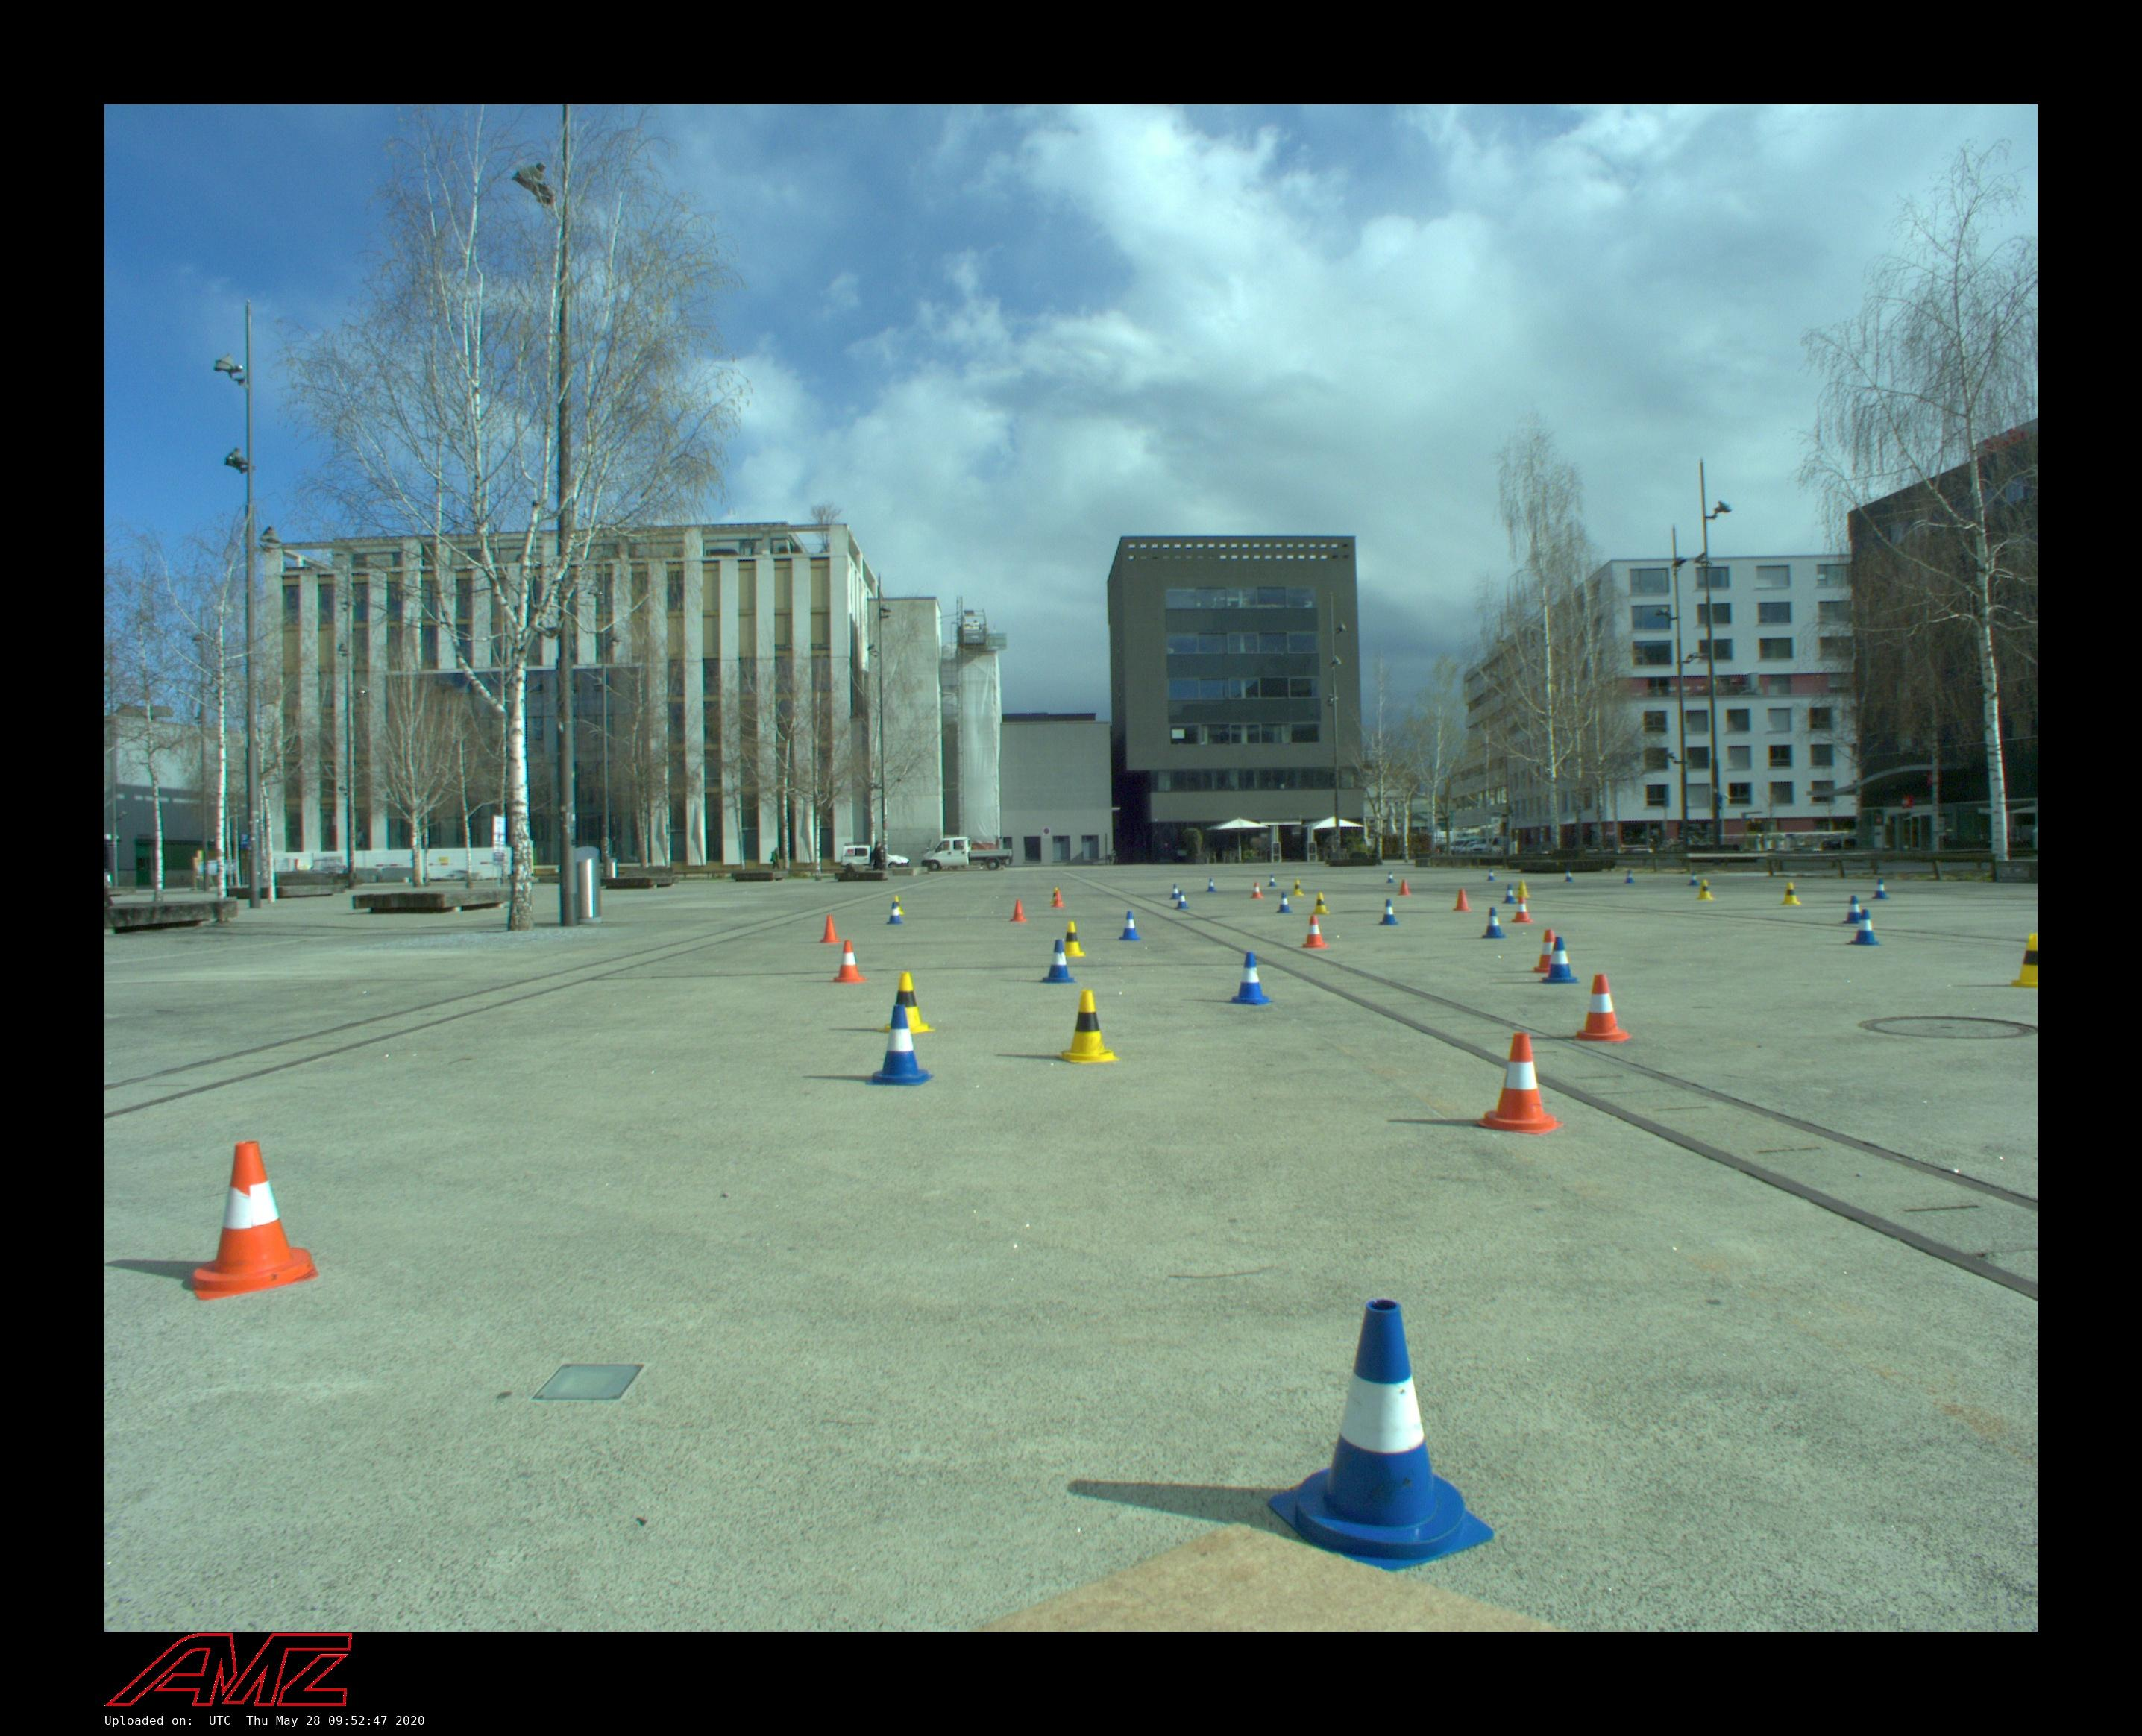blue_cone: (1265, 1298, 1494, 1573), (866, 1004, 934, 1086), (1228, 951, 1274, 1004), (1538, 935, 1579, 985), (1040, 939, 1075, 983), (1846, 909, 1882, 944), (1481, 907, 1506, 939), (1843, 896, 1867, 925), (1118, 911, 1141, 941), (1378, 898, 1398, 925), (886, 902, 904, 925), (1276, 891, 1293, 914), (1873, 879, 1889, 900), (1502, 884, 1517, 903), (1175, 891, 1189, 909), (1169, 884, 1182, 900), (1207, 877, 1217, 891), (1688, 872, 1699, 886), (1269, 873, 1277, 887), (1625, 870, 1634, 884), (1486, 870, 1495, 882), (1564, 870, 1573, 882), (1387, 872, 1394, 882)
orange_cone: (190, 1141, 319, 1302), (1478, 1033, 1564, 1135), (1575, 974, 1632, 1042), (831, 941, 866, 983), (1533, 930, 1564, 974), (1302, 916, 1327, 948), (819, 916, 840, 944), (1511, 896, 1533, 923), (1453, 889, 1472, 912), (1010, 900, 1028, 923), (1398, 879, 1410, 896), (1052, 891, 1065, 907), (1251, 882, 1263, 898)
yellow_cone: (1058, 990, 1121, 1066), (879, 973, 934, 1036), (2007, 934, 2037, 988), (1058, 921, 1086, 957), (1781, 882, 1802, 905), (1311, 891, 1331, 916), (1696, 879, 1713, 900), (889, 896, 905, 916), (1517, 879, 1531, 898), (1051, 887, 1063, 905), (1292, 880, 1304, 896)
